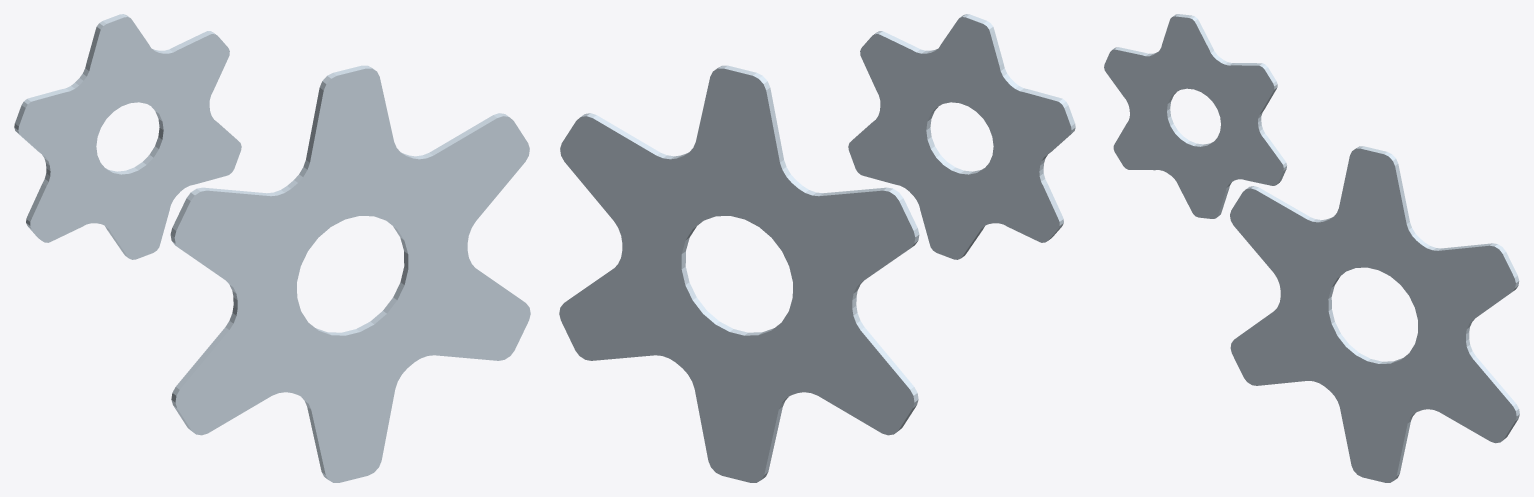
The model's file is Settings_3D_Icon_05.fbx.
3 renders of one model, left to right at view 1: azimuth 30°, elevation 25°; view 2: azimuth 150°, elevation 25°; view 3: azimuth 330°, elevation 25°, orthographic. The views are drawn at different scales.
Parts seen in each view (by area): view 1: Settings_3D_Icon_05; view 2: Settings_3D_Icon_05; view 3: Settings_3D_Icon_05.
Part boxes in pixels (x1,y1,x2,y2): Settings_3D_Icon_05: [14, 14, 530, 482]; Settings_3D_Icon_05: [559, 14, 1075, 482]; Settings_3D_Icon_05: [1104, 14, 1519, 482].
Bounding box in the file's own units: 143 × 139 × 2.
